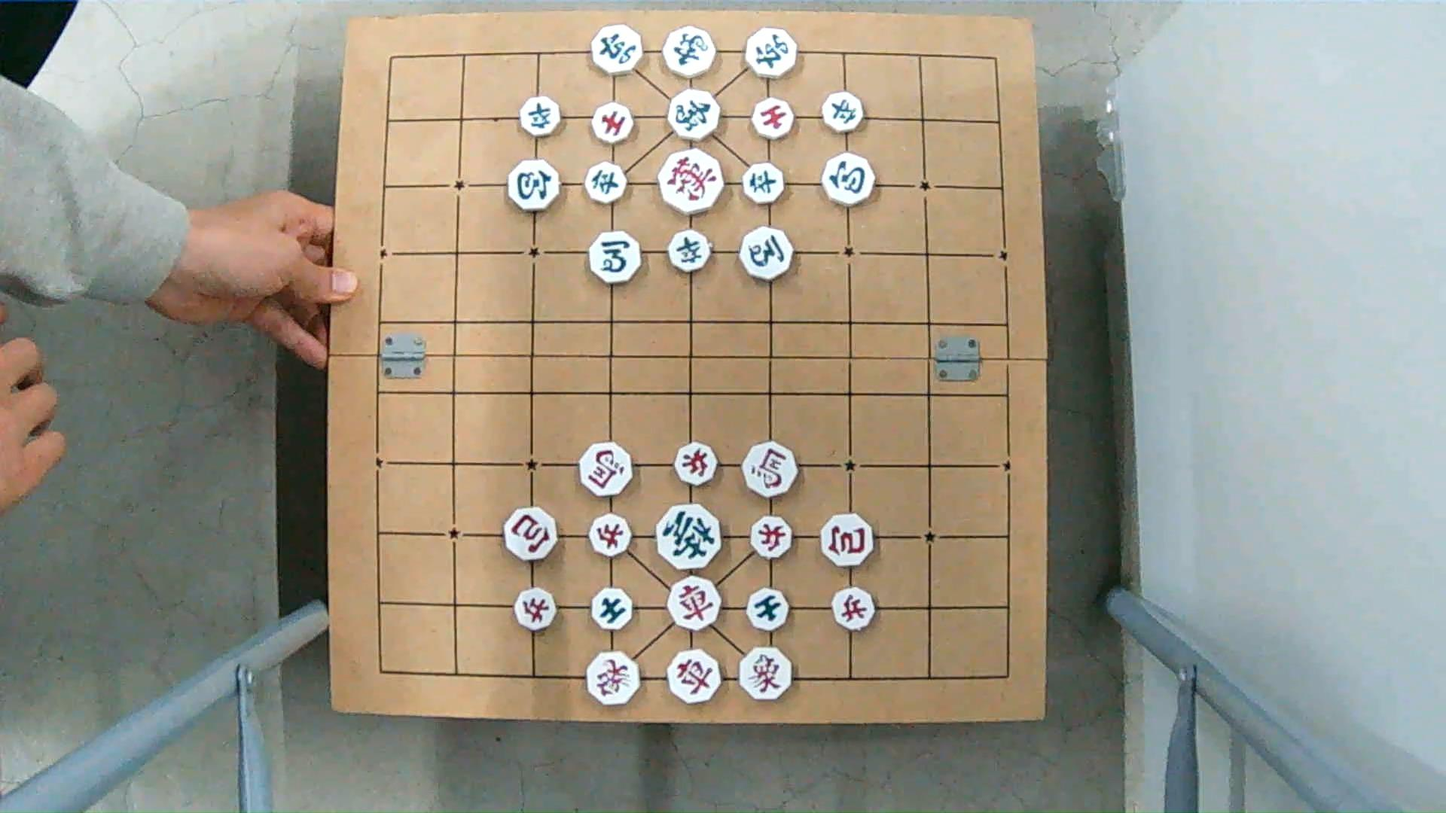cha_green: (746, 28, 804, 74), (589, 27, 646, 72)
cha_red: (668, 650, 722, 705), (665, 581, 724, 629)
jol_green: (665, 233, 714, 272), (743, 161, 785, 205), (581, 165, 630, 202), (818, 94, 865, 131), (519, 100, 564, 138)
jol_red: (588, 516, 638, 556), (671, 443, 716, 486), (828, 590, 877, 629), (747, 519, 795, 558), (514, 591, 561, 629)
ma_green: (737, 229, 795, 279), (587, 233, 643, 281)
ma_red: (744, 447, 804, 495), (577, 447, 636, 495)
po_green: (819, 157, 877, 206), (508, 162, 563, 210)
po_red: (816, 516, 875, 566), (503, 510, 560, 560)
sa_green: (589, 589, 636, 629), (745, 591, 793, 629)
sa_red: (750, 99, 798, 138), (590, 103, 632, 145)
sang_green: (659, 29, 718, 77), (668, 93, 725, 141)
sang_red: (585, 656, 645, 705), (737, 650, 796, 699)
wang_green: (656, 511, 727, 568)
wang_red: (660, 155, 728, 212)
